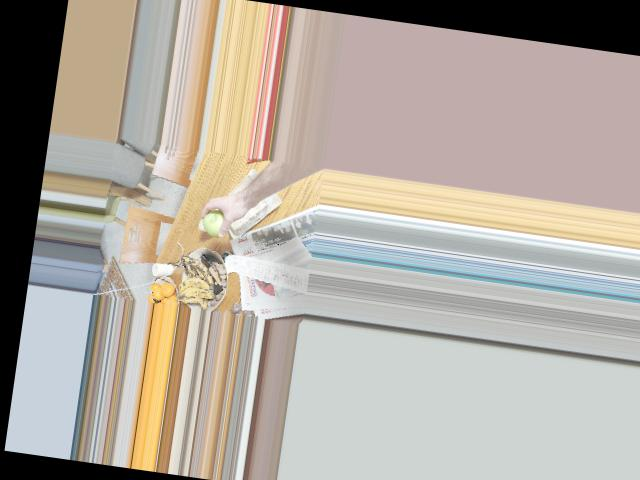apple: (197, 202, 235, 240)
